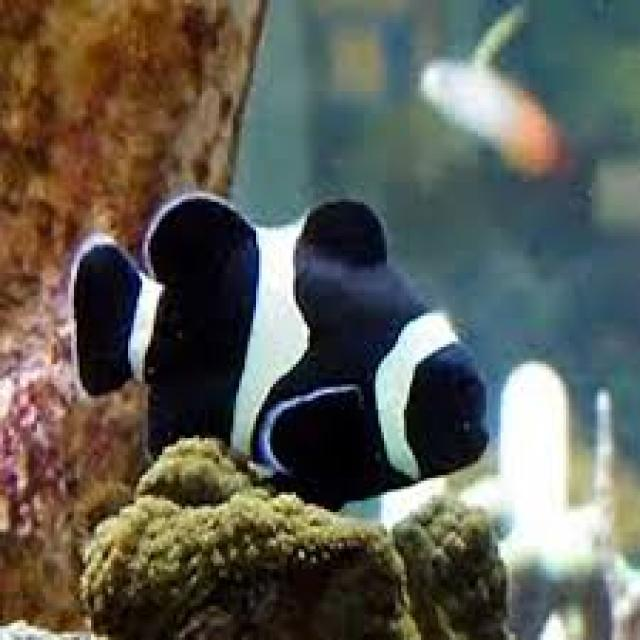ClownFish: (70, 197, 490, 502)
